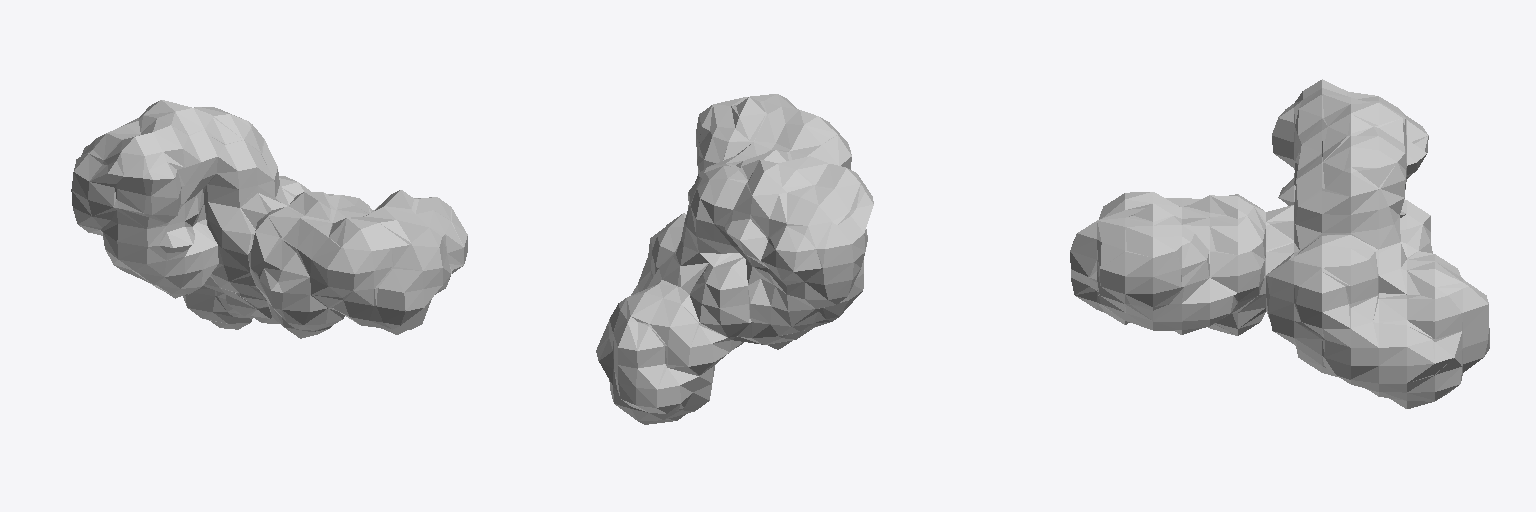
Rendered from IgG.obj.
The picture shows the model from 3 angles: view 1: azimuth 30°, elevation 25°; view 2: azimuth 150°, elevation 25°; view 3: azimuth 270°, elevation 25°; orthographic projection.
Size of the model in its own units: 133 by 123 by 178.